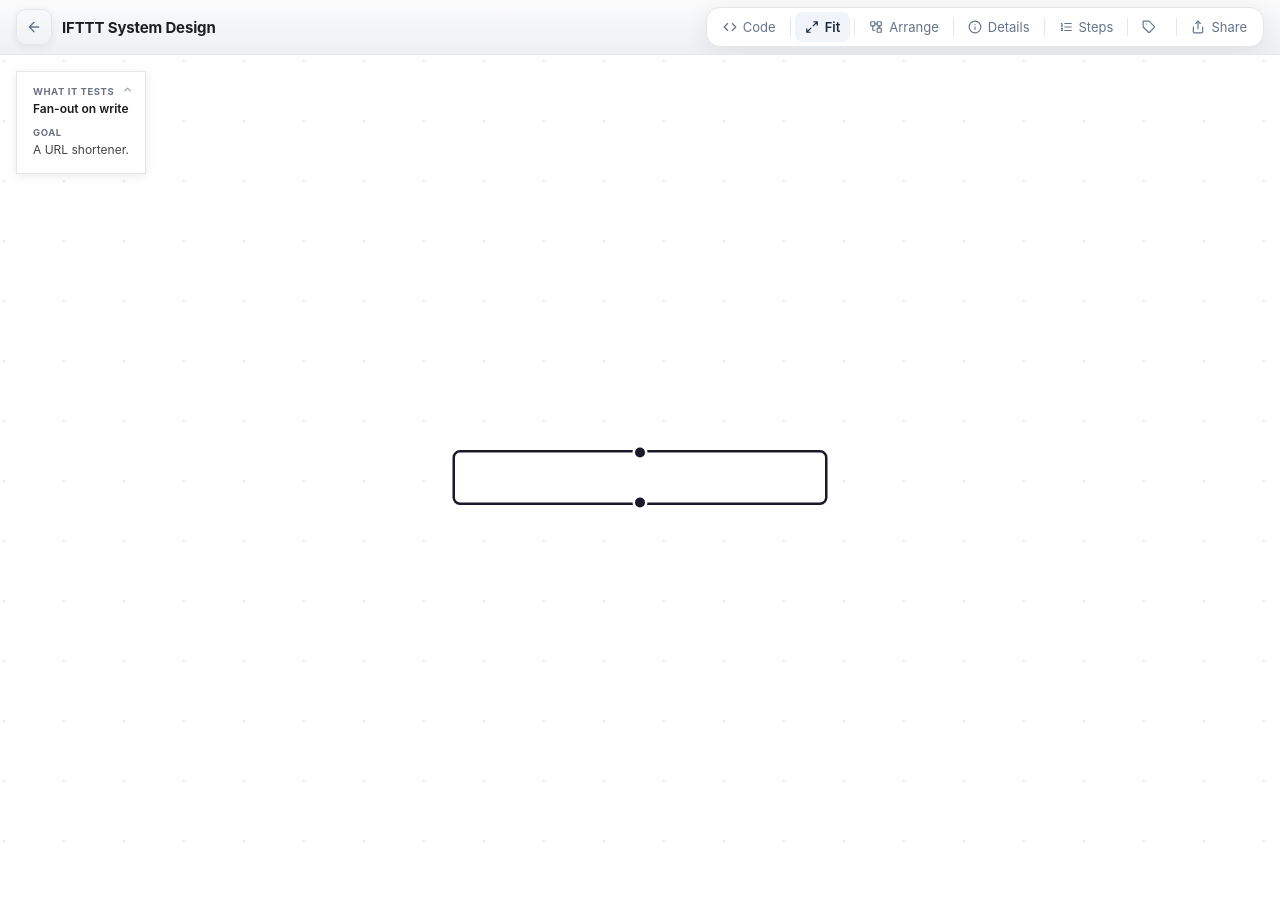
Test: info card › folds into a badge on click and comes back
The width and height of the screenshot is (1280, 900).
Expected: the text "Fan-out on write" is shown, [33,100,129,117]
Step 1. Click the button with aria-label "hide the diagram summary" → (81, 123), box [16,71,146,174]
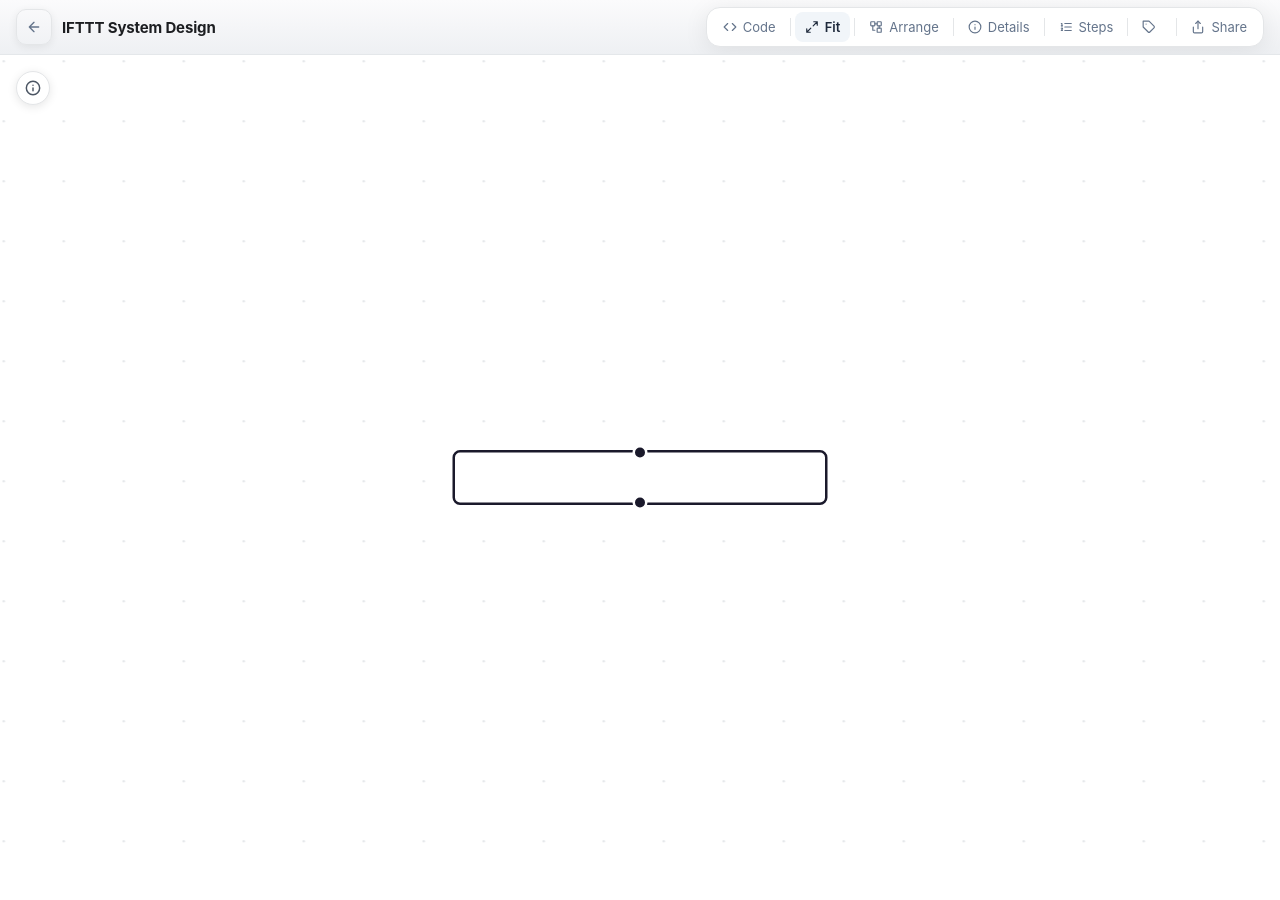
Expected: the button "Fan-out on write" is gone
Step 2. Click the button named "show the diagram summary" → (33, 88), box [16,71,50,105]
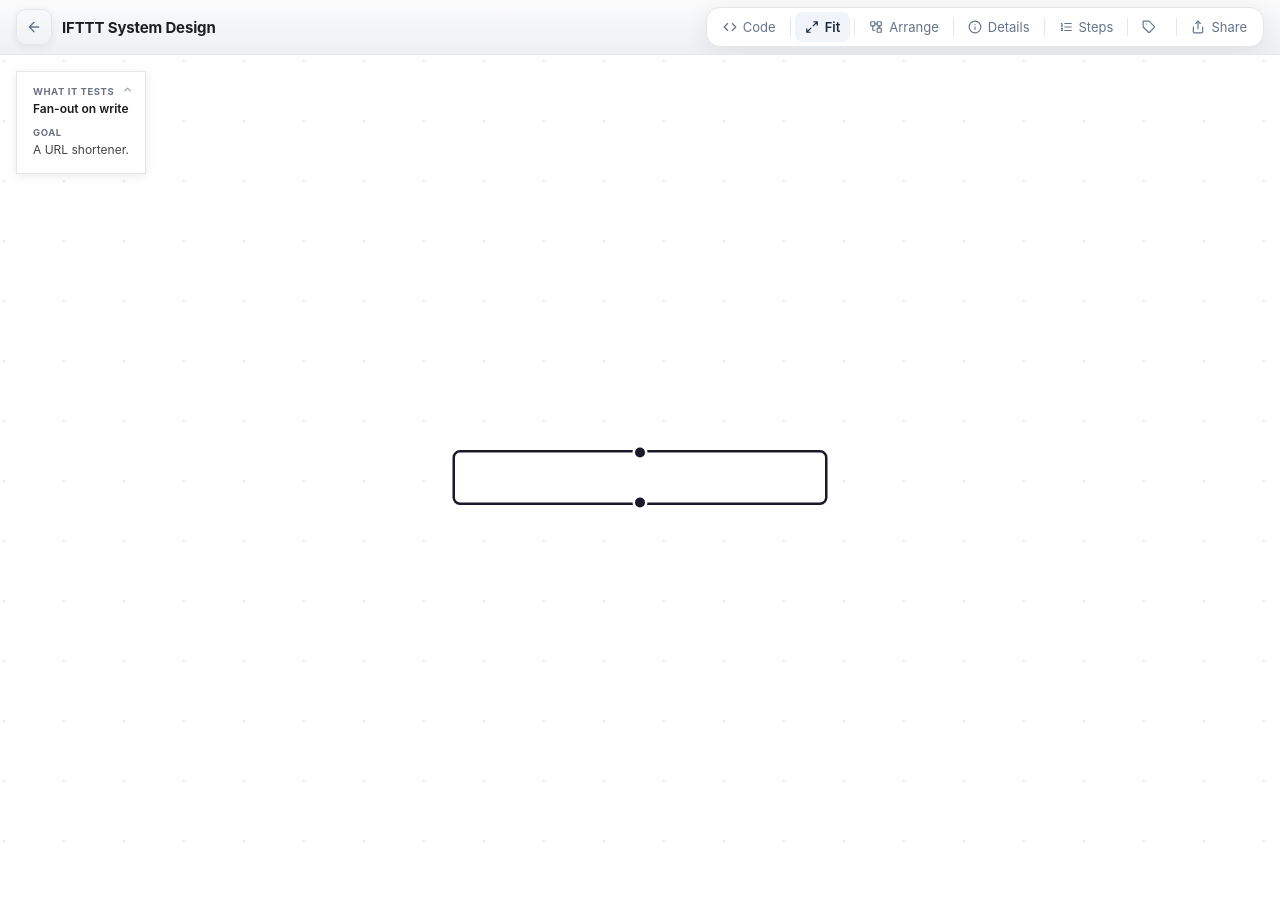
Expected: the text "Fan-out on write" is shown, [33,100,129,117]
